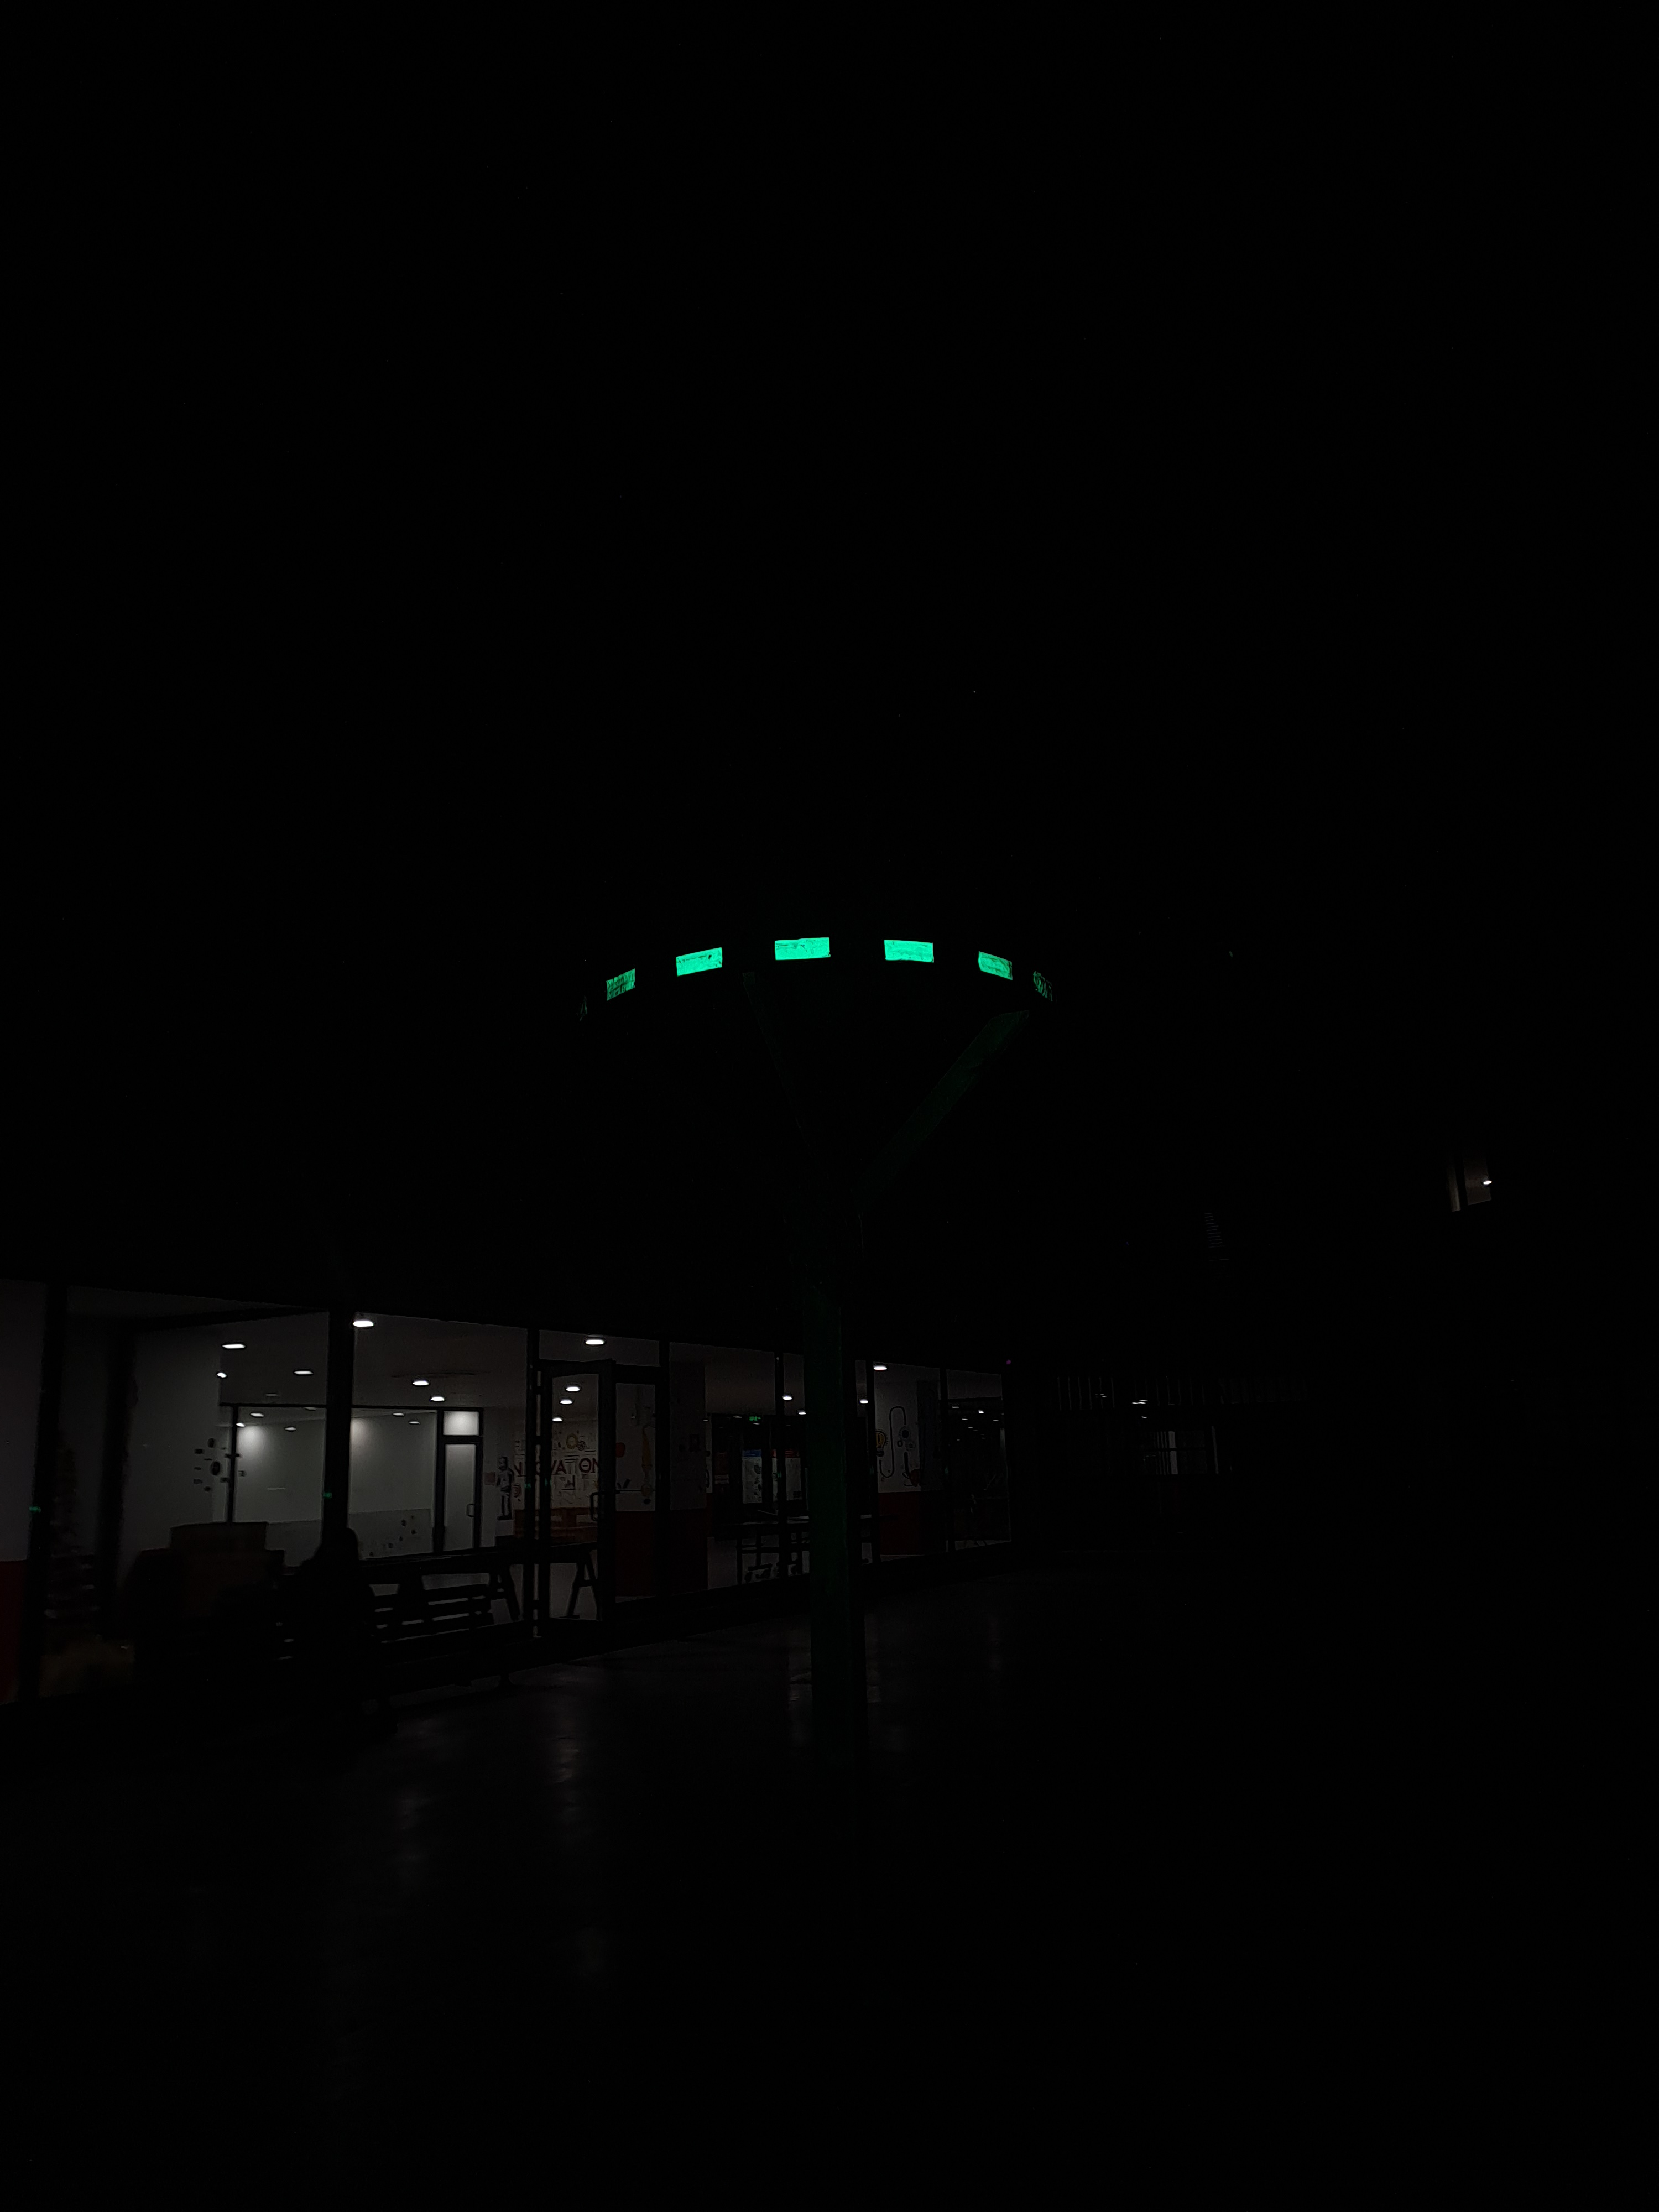hoop: (592, 937, 1054, 1005)
